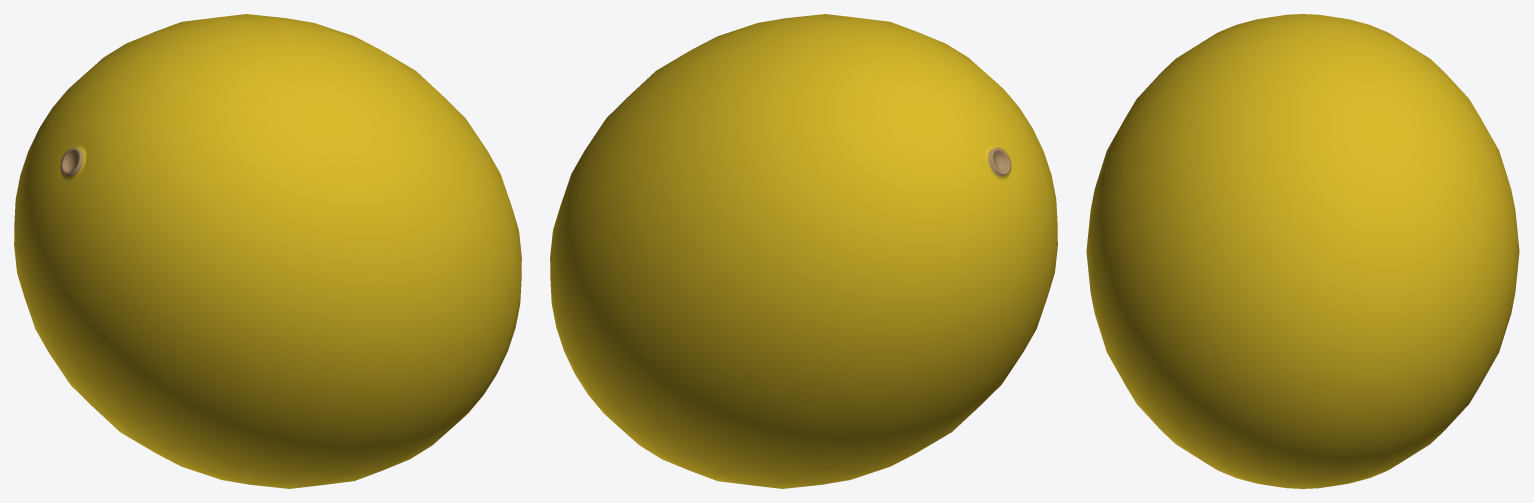
Rendered from MelaoColeta.fbx.
The picture shows the model from 3 angles, left to right: view 1: azimuth 30°, elevation 25°; view 2: azimuth 150°, elevation 25°; view 3: azimuth 270°, elevation 25°; orthographic projection. The views are drawn at different scales.
Parts seen in each view (by area): view 1: MelaoColeta; view 2: MelaoColeta; view 3: MelaoColeta.
Boxes of the visible parts, <box> form: MelaoColeta: <box>14,14,521,488</box>; MelaoColeta: <box>550,14,1057,488</box>; MelaoColeta: <box>1086,14,1519,488</box>.
Size of the model in its own units: 22.26 by 20.95 by 20.4.
